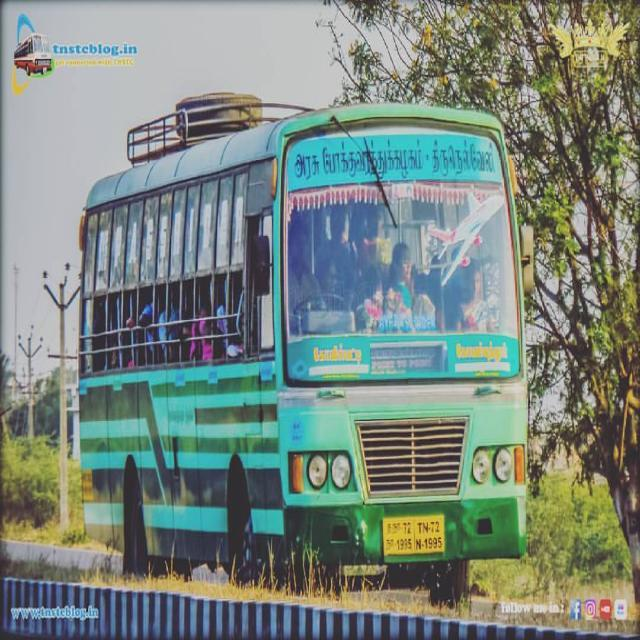Bus: (77, 87, 540, 595)
